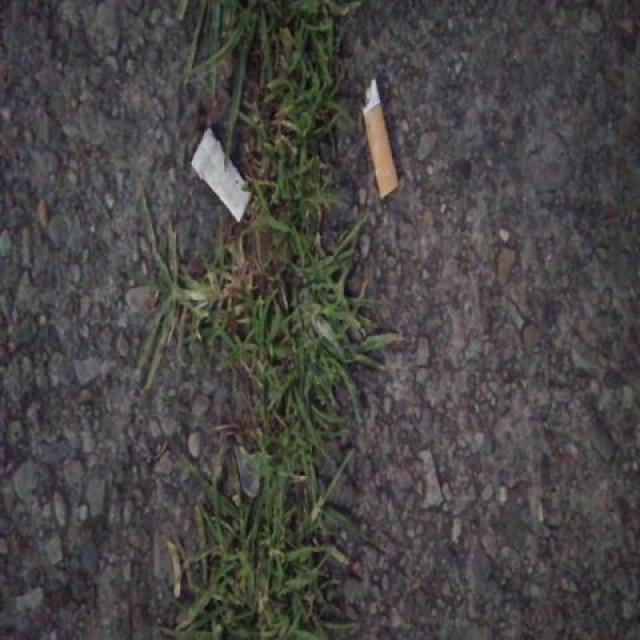non-organic waste: (183, 125, 257, 226), (356, 75, 403, 204)
